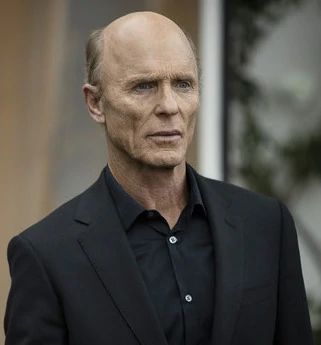bare: (103, 99, 198, 165)
